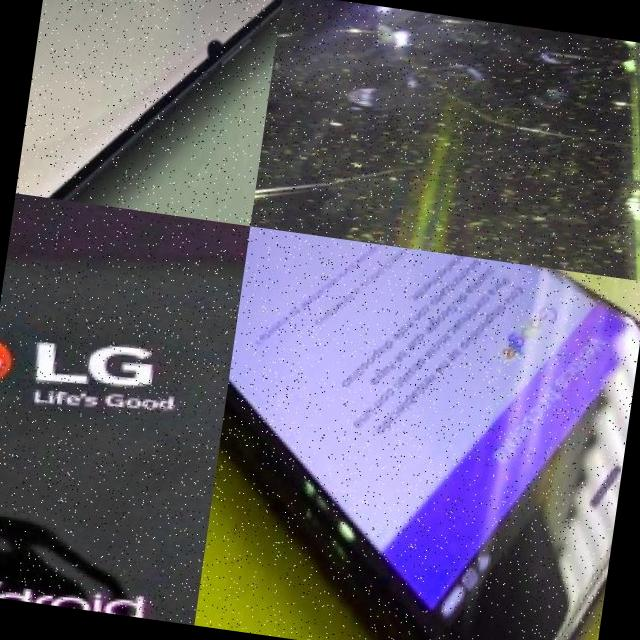dead pixel: (182, 5, 248, 79)
screen crack: (249, 0, 640, 281)
